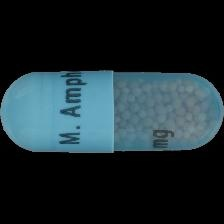0555-0787: (0, 0, 224, 224)
